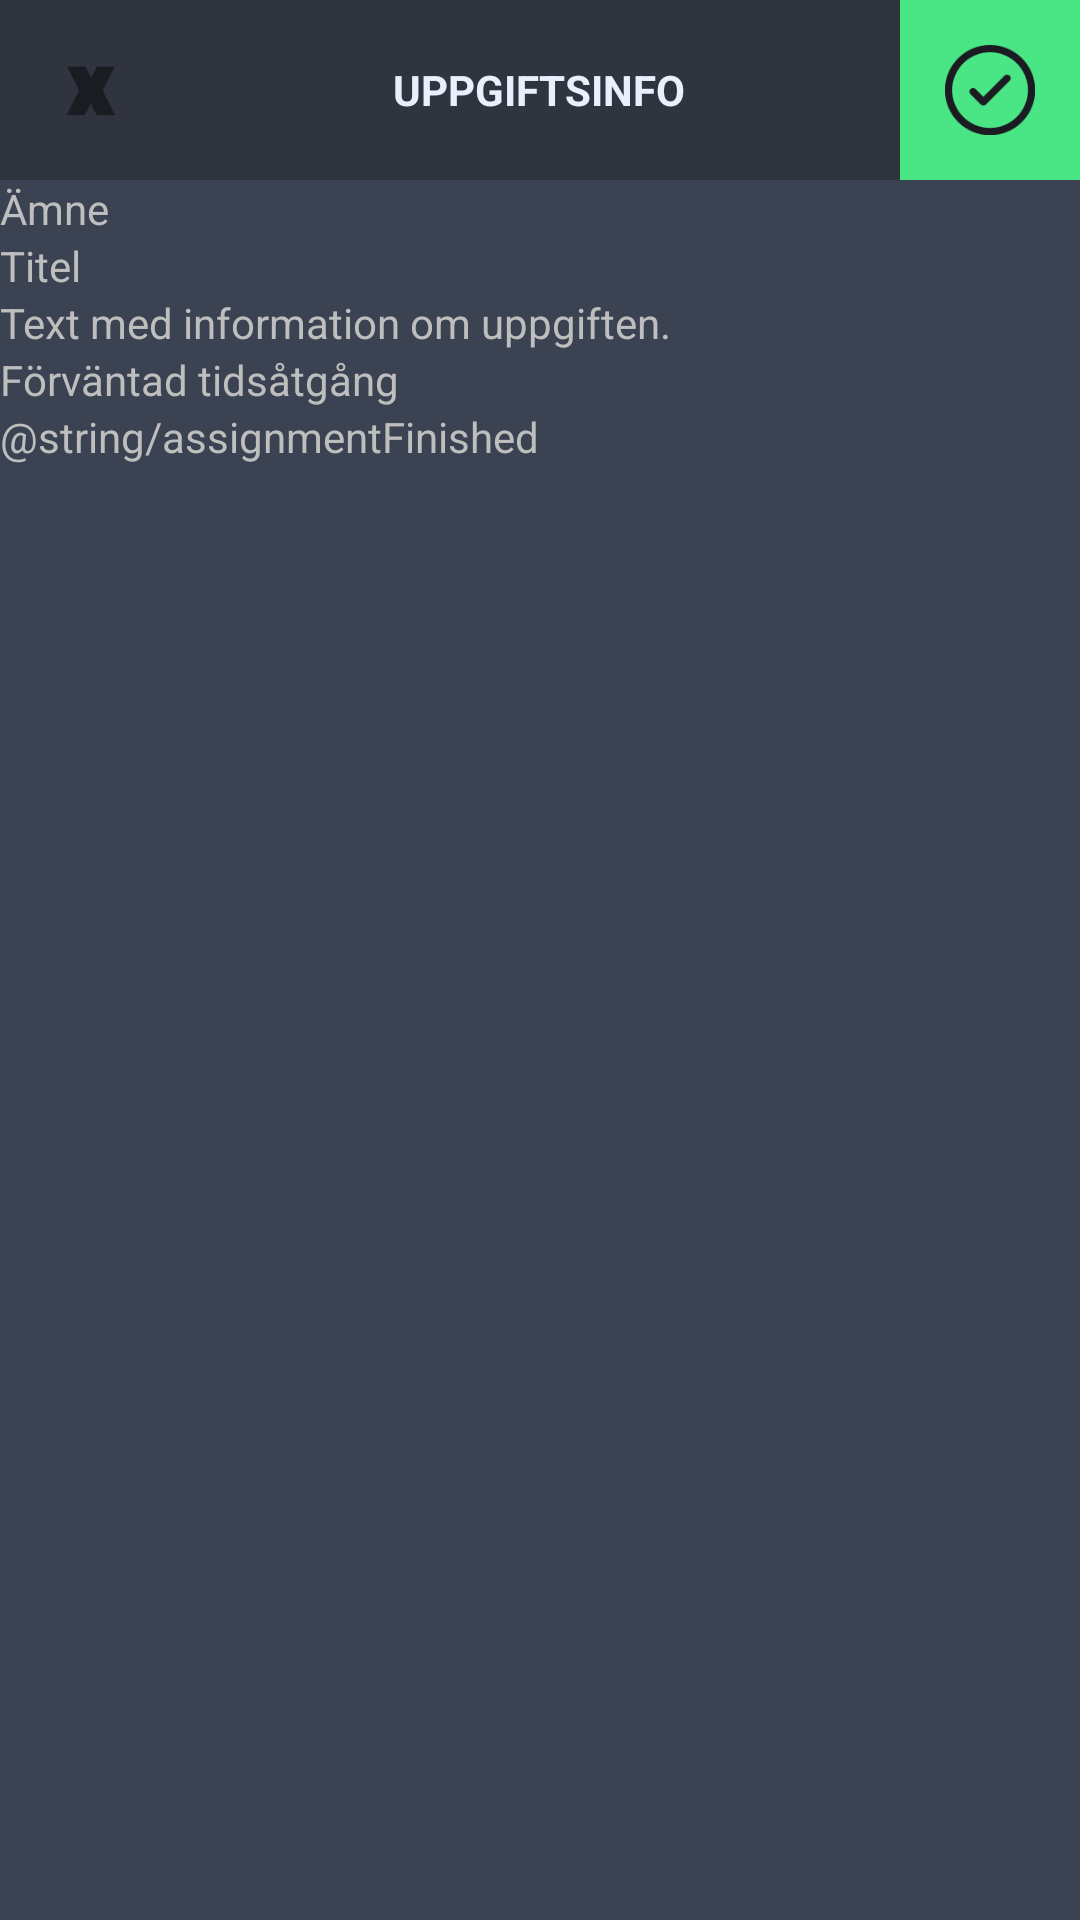

Locate icon controls on the screen. Image size 1080×1920, boxes as [left=x1, top=y1, right=x2, bottom=y2].
cross tmp: [left=68, top=67, right=114, bottom=115]
done: [left=900, top=0, right=1080, bottom=180]
